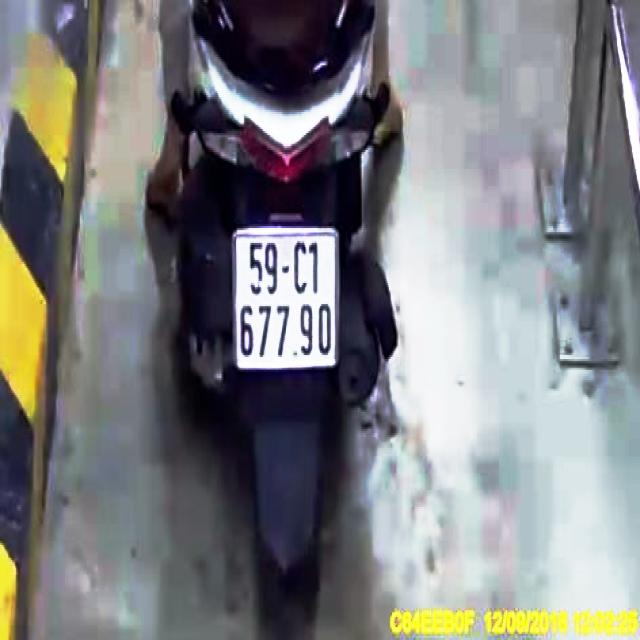license_plate: (234, 228, 339, 369)
